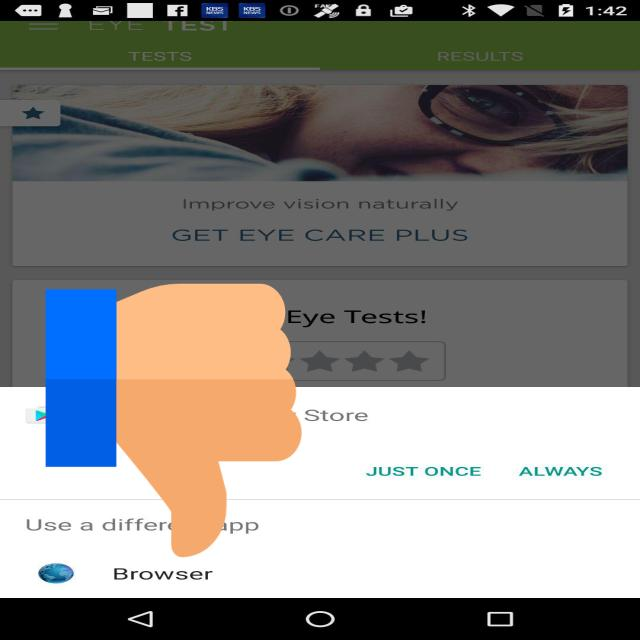obstruction: (46, 277, 302, 564)
